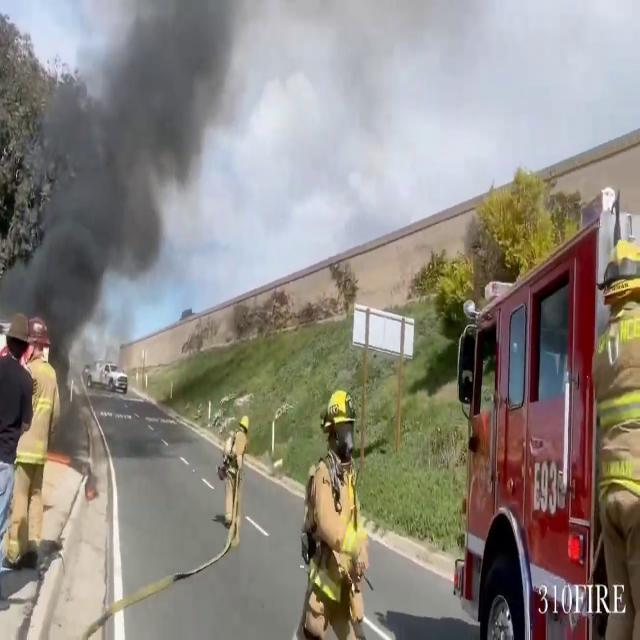Smoke: (17, 0, 430, 330)
